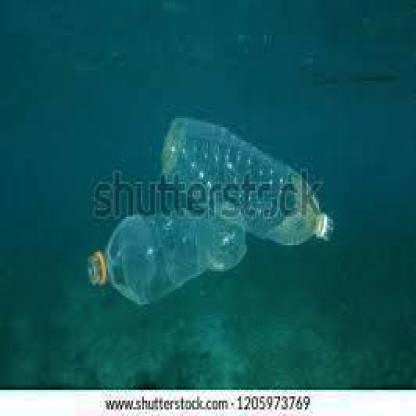pbottle: (155, 109, 336, 254), (77, 199, 255, 302)
